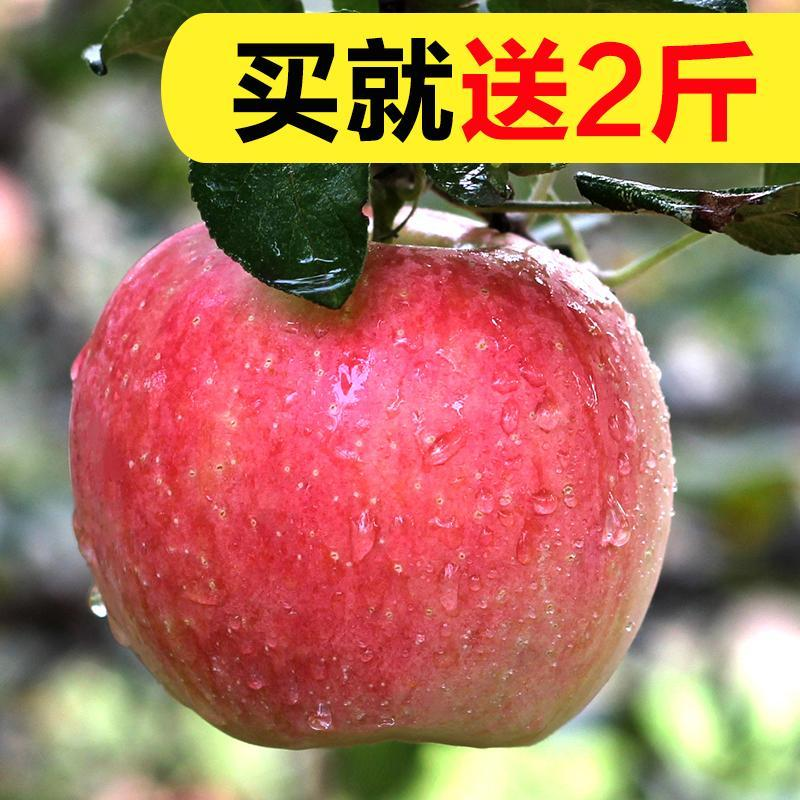apple: (66, 220, 680, 751)
